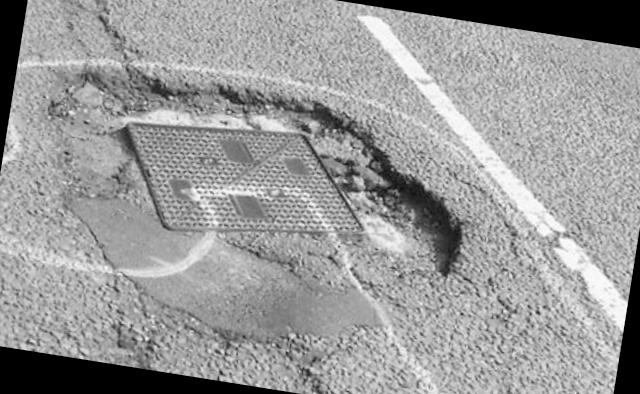Pothole: (5, 50, 500, 329)
